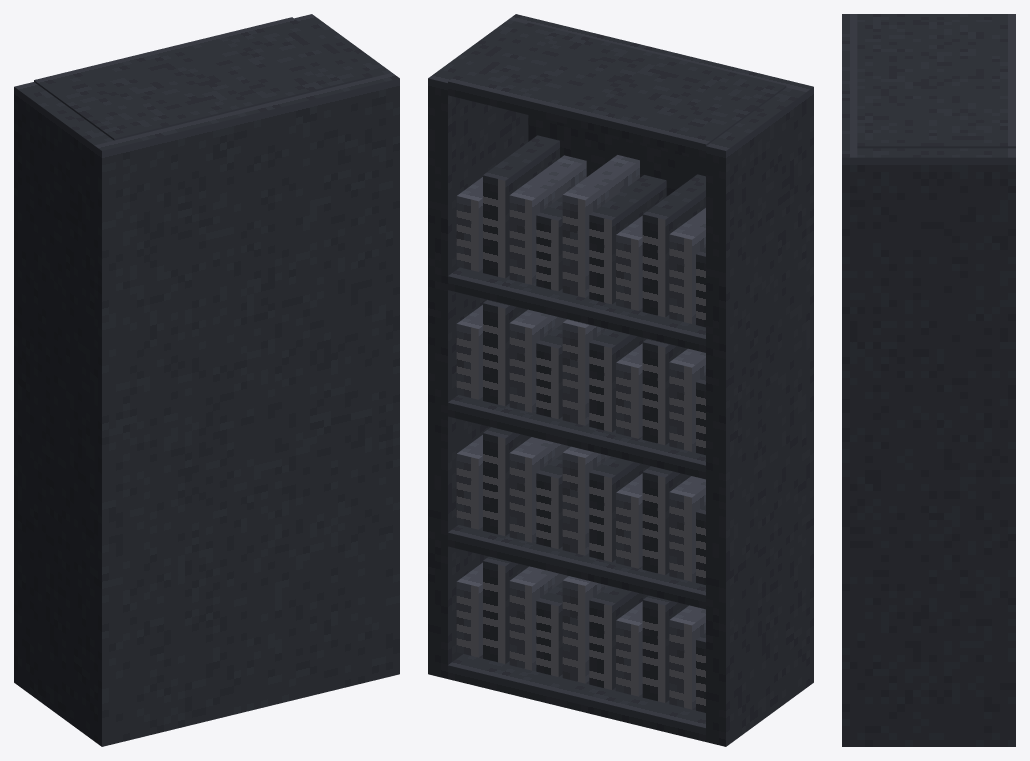
Rendered from f_vitrified_bookcase.glb.
3 views of the same model, side by side, from view 1: azimuth 30°, elevation 25°; view 2: azimuth 150°, elevation 25°; view 3: azimuth 270°, elevation 25° (orthographic).
Parts seen in each view (by area): view 1: block_back, block_side--0.42000000000000004, block_shelf-4, block_side-0.42000000000000004; view 2: block_fused-inscribed-book-spine (×40), block_side--0.42000000000000004, block_side-0.42000000000000004, block_shelf-4, block_back, block_shelf-0, block_shelf-3, block_shelf-1, block_shelf-2; view 3: block_side-0.42000000000000004, block_shelf-4, block_back, block_side--0.42000000000000004.
Boxes of the visible parts, bbox=[...] form: block_back: bbox=[94, 73, 399, 746]; block_side--0.42000000000000004: bbox=[14, 82, 113, 740]; block_shelf-4: bbox=[34, 17, 372, 140]; block_side-0.42000000000000004: bbox=[294, 14, 391, 77]; block_fused-inscribed-book-spine (×40): bbox=[456, 135, 705, 712]; block_side--0.42000000000000004: bbox=[706, 87, 806, 746]; block_side-0.42000000000000004: bbox=[428, 19, 528, 678]; block_shelf-4: bbox=[448, 22, 786, 158]; block_back: bbox=[508, 14, 813, 687]; block_shelf-0: bbox=[448, 654, 705, 741]; block_shelf-3: bbox=[448, 267, 705, 352]; block_shelf-1: bbox=[448, 525, 705, 609]; block_shelf-2: bbox=[448, 395, 705, 479]; block_side-0.42000000000000004: bbox=[857, 148, 1015, 746]; block_shelf-4: bbox=[857, 22, 1015, 148]; block_back: bbox=[842, 14, 857, 746]; block_side--0.42000000000000004: bbox=[857, 14, 1015, 21].
Size of the model in its own units: 0.9 by 1.73 by 0.46.
2 materials, 2 textured.
